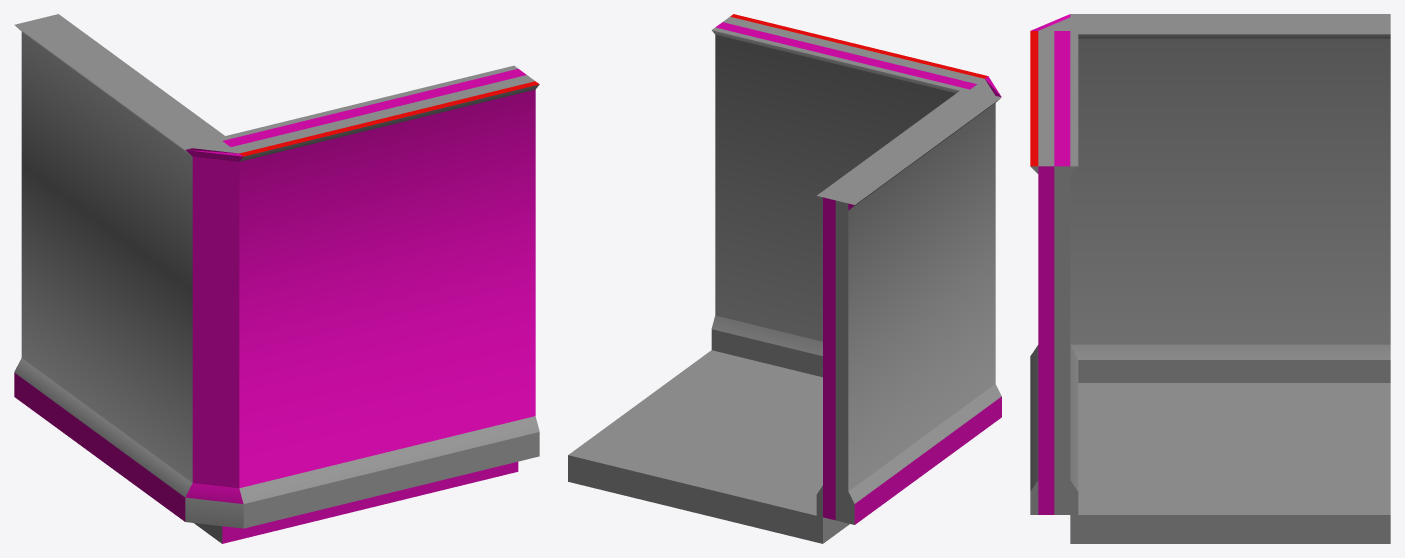
Rendered from ModularWallCorner_V1_MES.FBX.
The picture shows the model from 3 angles, left to right: view 1: azimuth 30°, elevation 25°; view 2: azimuth 150°, elevation 25°; view 3: azimuth 270°, elevation 25°; orthographic projection. The views are drawn at different scales.
Parts seen in each view (by area): view 1: ModularCorner; view 2: ModularCorner; view 3: ModularCorner.
Part boxes in pixels (left/top/right/bottom): ModularCorner: left=14, top=14, right=539, bottom=543; ModularCorner: left=568, top=14, right=1001, bottom=543; ModularCorner: left=1030, top=14, right=1390, bottom=543.
Bounding box in the file's own units: 113 × 130 × 113.
